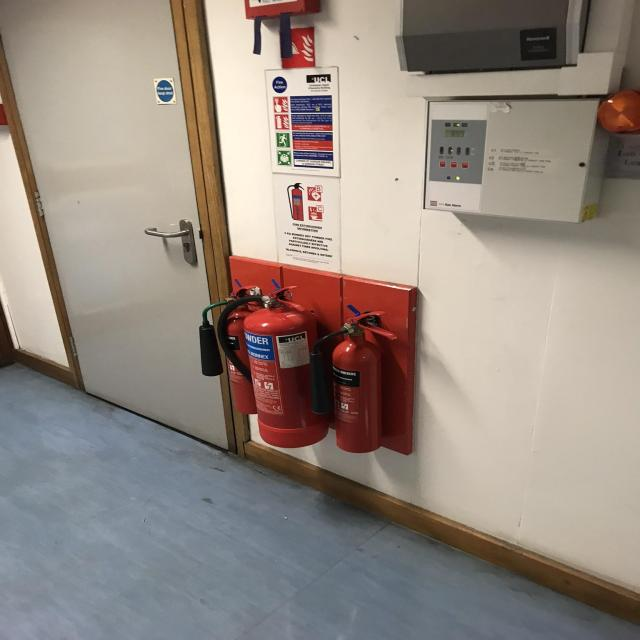fire_extinguisher: (215, 283, 335, 447), (305, 308, 396, 454), (195, 286, 276, 417)
